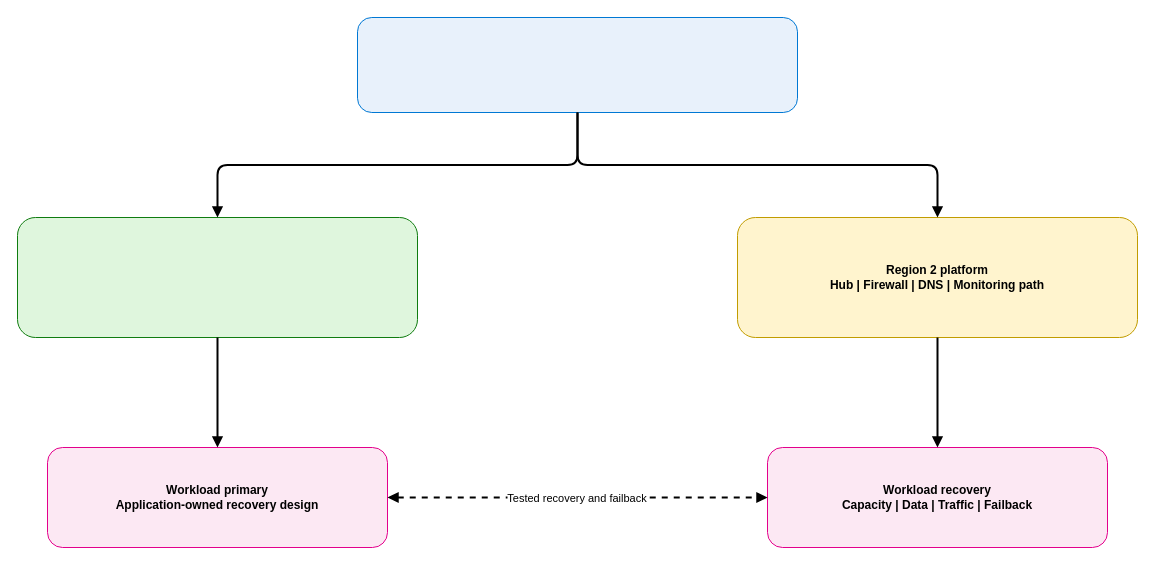
Some shapes in this 1155 by 565 pixel diagram are drawn without their labels. Here are the shapes that lost their labels. From the top down, the centre of each, then its label:
At point 577,64: "Global platform controls Entra ID | Management groups | Policy | CI/CD".
At point 217,277: "Region 1 platform Hub | Firewall | DNS | Monitoring path".
